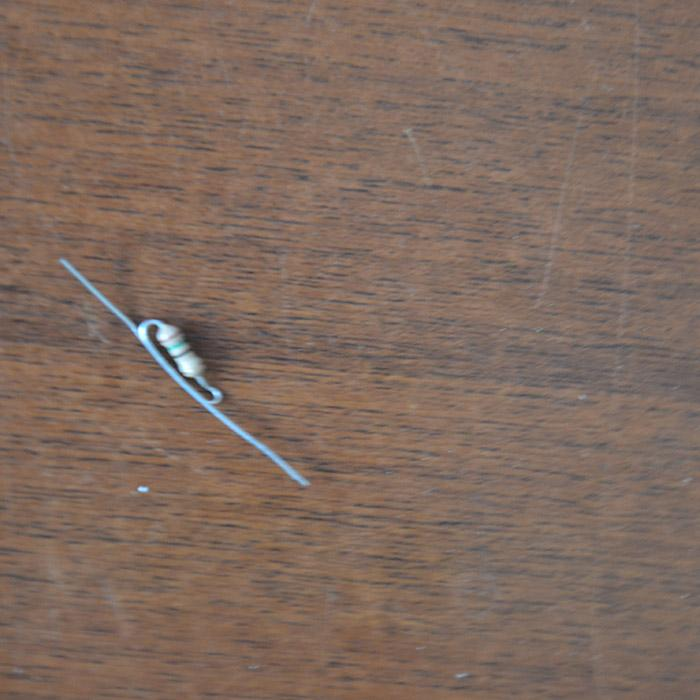resistor: (153, 322, 206, 379)
